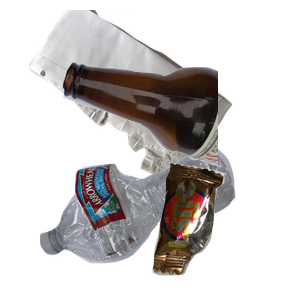glass: (60, 59, 300, 217)
paper: (27, 10, 252, 187)
plastic: (37, 144, 265, 300)
trash: (150, 160, 300, 300)
